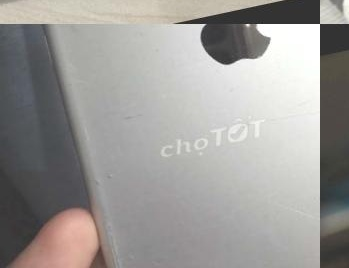scratch: (72, 144, 179, 268), (262, 182, 320, 237)
